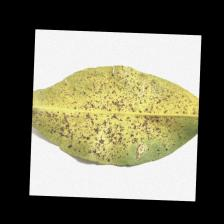canker: (80, 86, 160, 140)
